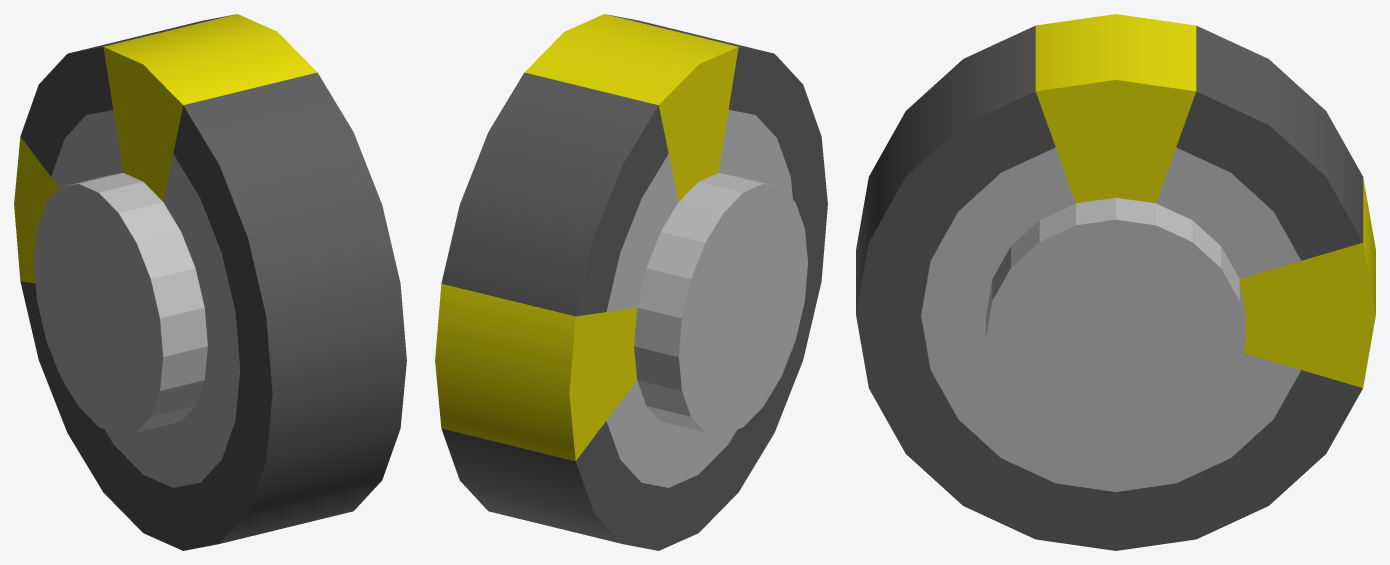
The model's file is SteeringWheel.fbx.
3 renders of one model, left to right at view 1: azimuth 30°, elevation 25°; view 2: azimuth 150°, elevation 25°; view 3: azimuth 270°, elevation 25°, orthographic.
Parts seen in each view (by area): view 1: pCylinder2; view 2: pCylinder2; view 3: pCylinder2.
Boxes of the visible parts, bbox=[...] form: pCylinder2: bbox=[14, 14, 406, 550]; pCylinder2: bbox=[435, 14, 827, 550]; pCylinder2: bbox=[856, 14, 1375, 550].
Size of the model in its own units: 2 by 4 by 4.
